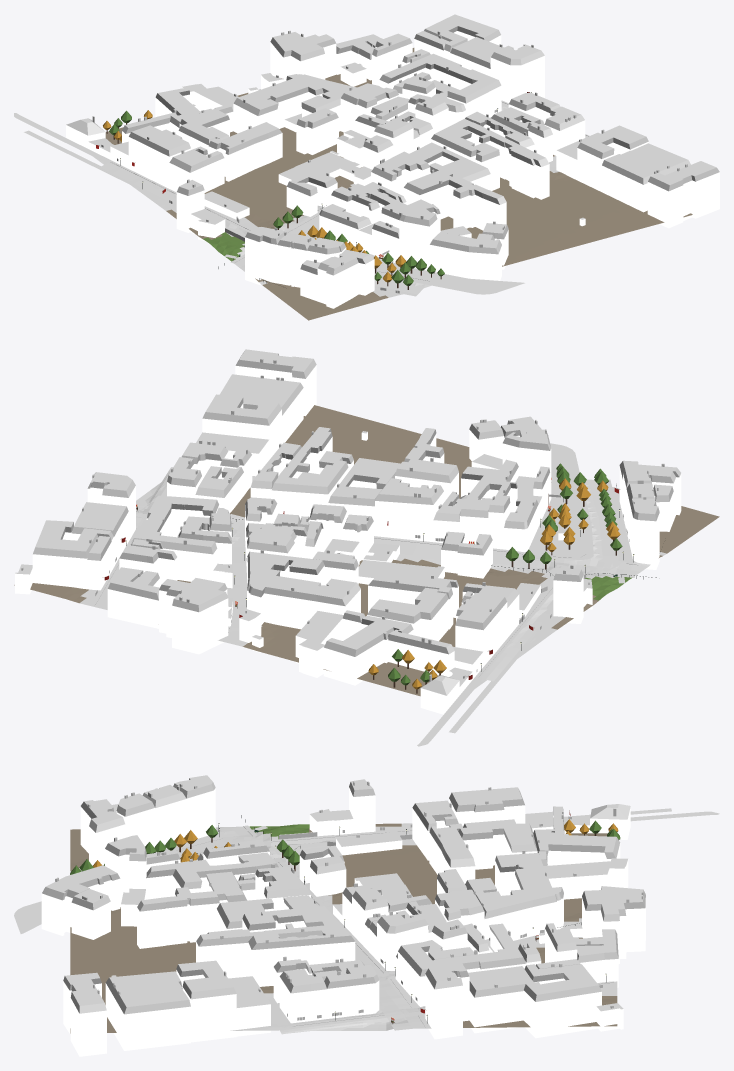
The model's file is zone_K3.glb.
The picture shows the model from 3 angles, top to bottom: view 1: azimuth 30°, elevation 25°; view 2: azimuth 150°, elevation 25°; view 3: azimuth 270°, elevation 25°; orthographic projection. The views are drawn at different scales.
Visible parts, largest first — view 1: zone_K3_batiments, zone_K3_terrain, zone_K3_sol_NOCOL, zone_K3_decor_NOCOL; view 2: zone_K3_batiments, zone_K3_terrain, zone_K3_sol_NOCOL, zone_K3_decor_NOCOL; view 3: zone_K3_batiments, zone_K3_terrain, zone_K3_sol_NOCOL, zone_K3_decor_NOCOL.
Part boxes in pixels (left/top/right/bottom): zone_K3_batiments: left=66, top=14, right=719, bottom=308; zone_K3_terrain: left=94, top=48, right=692, bottom=320; zone_K3_sol_NOCOL: left=14, top=100, right=589, bottom=296; zone_K3_decor_NOCOL: left=103, top=92, right=531, bottom=289; zone_K3_batiments: left=15, top=349, right=681, bottom=714; zone_K3_terrain: left=14, top=405, right=719, bottom=696; zone_K3_sol_NOCOL: left=91, top=443, right=640, bottom=746; zone_K3_decor_NOCOL: left=125, top=463, right=660, bottom=693; zone_K3_batiments: left=41, top=775, right=645, bottom=1056; zone_K3_terrain: left=70, top=823, right=617, bottom=1033; zone_K3_sol_NOCOL: left=14, top=808, right=719, bottom=1034; zone_K3_decor_NOCOL: left=70, top=815, right=620, bottom=1023.
Bounding box in the file's own units: 231 × 32.09 × 275.
